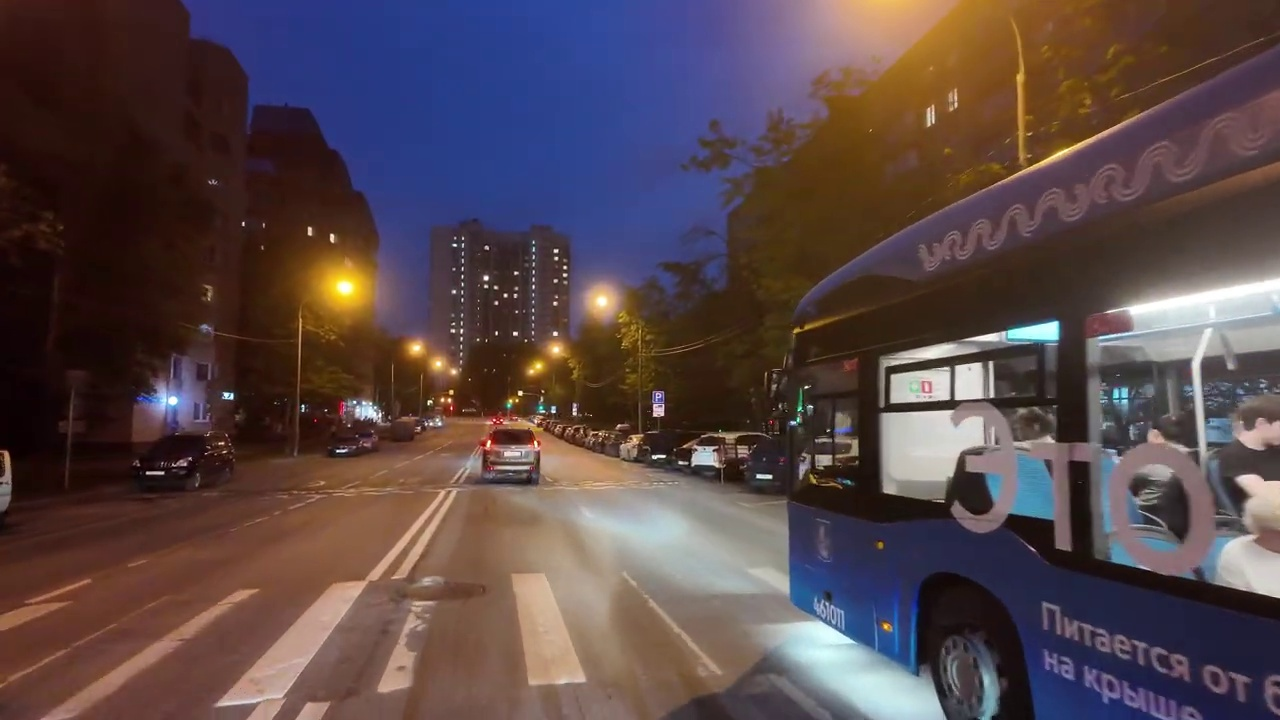acesa: (320, 268, 367, 310), (587, 287, 620, 319), (402, 338, 428, 363)
